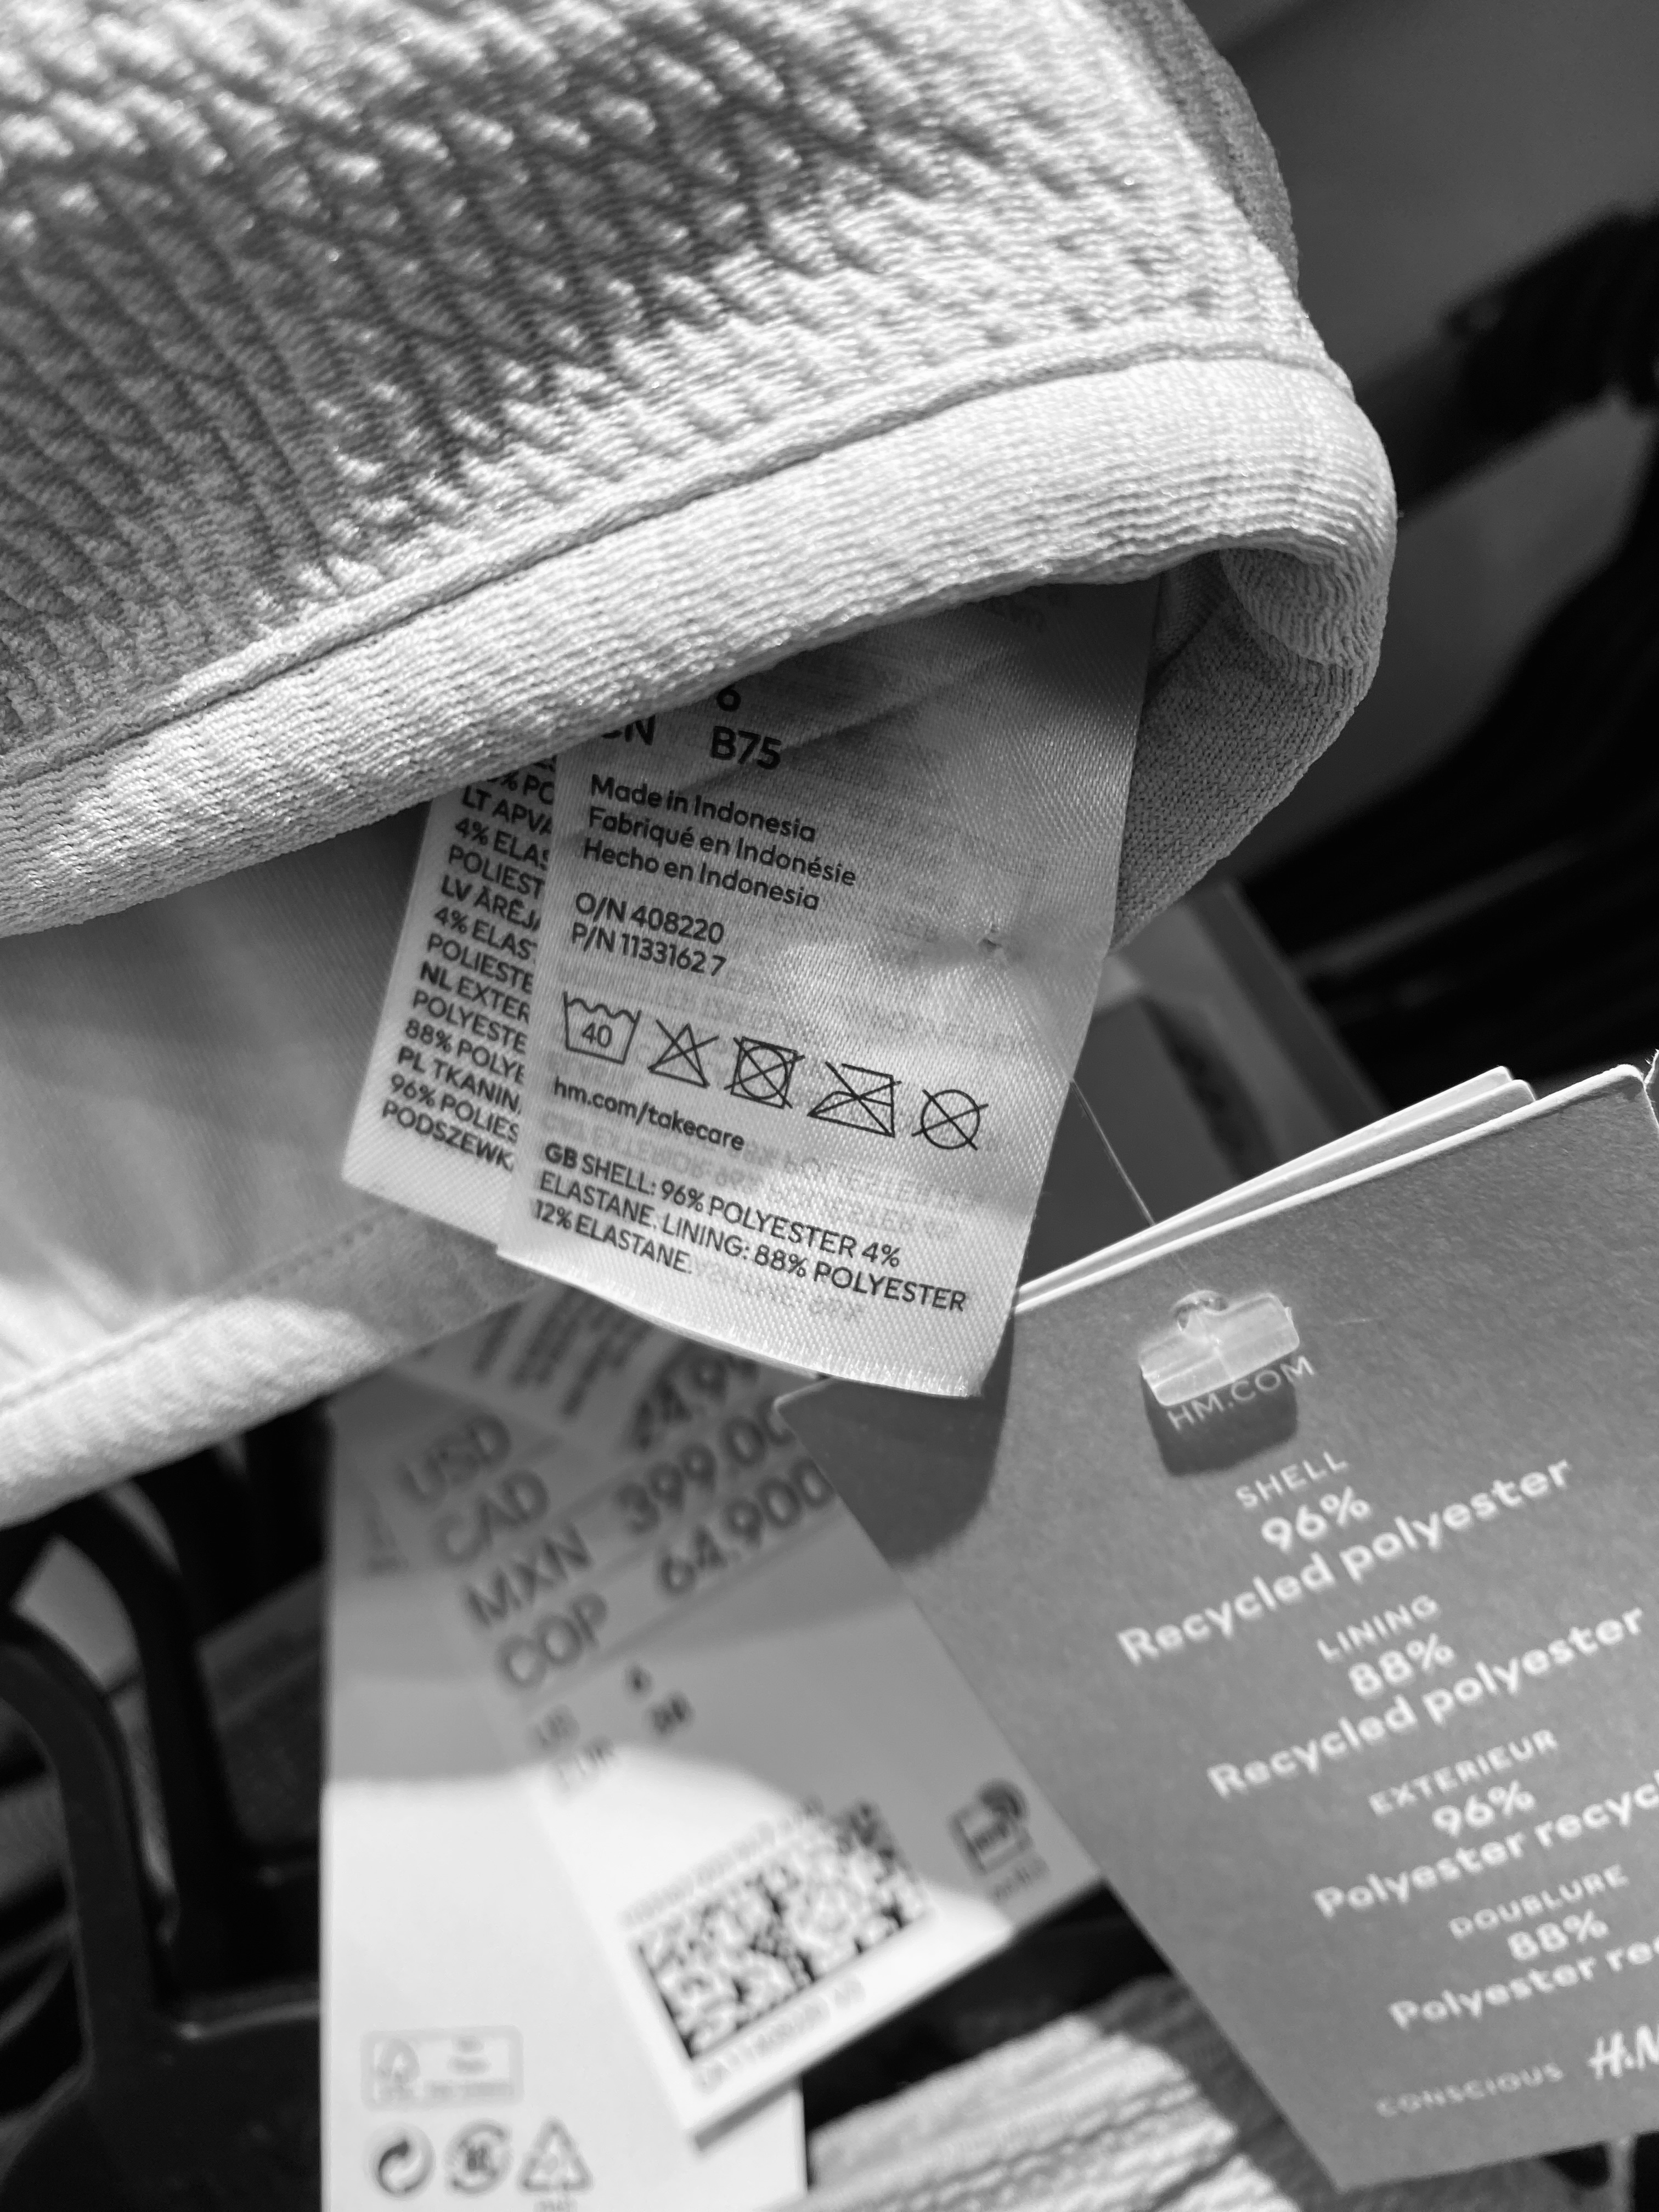tag: (333, 516, 1134, 1425)
